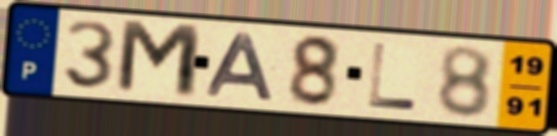3: (60, 19, 118, 91)
8: (434, 43, 494, 120), (285, 33, 344, 110)
A: (203, 31, 278, 103)
L: (366, 40, 421, 113)
M: (113, 17, 206, 102)
